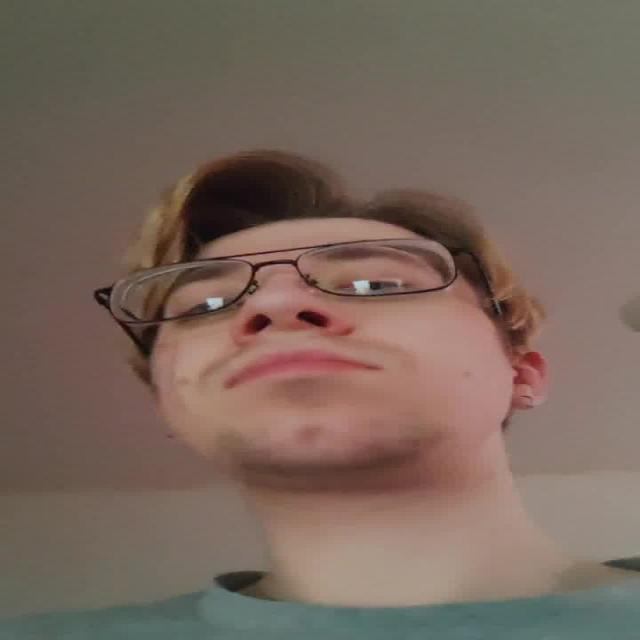earlobe: (506, 393, 549, 410)
eye: (175, 299, 237, 323), (326, 279, 422, 294)
nose: (228, 320, 358, 358)
wholeear: (506, 350, 555, 411)
